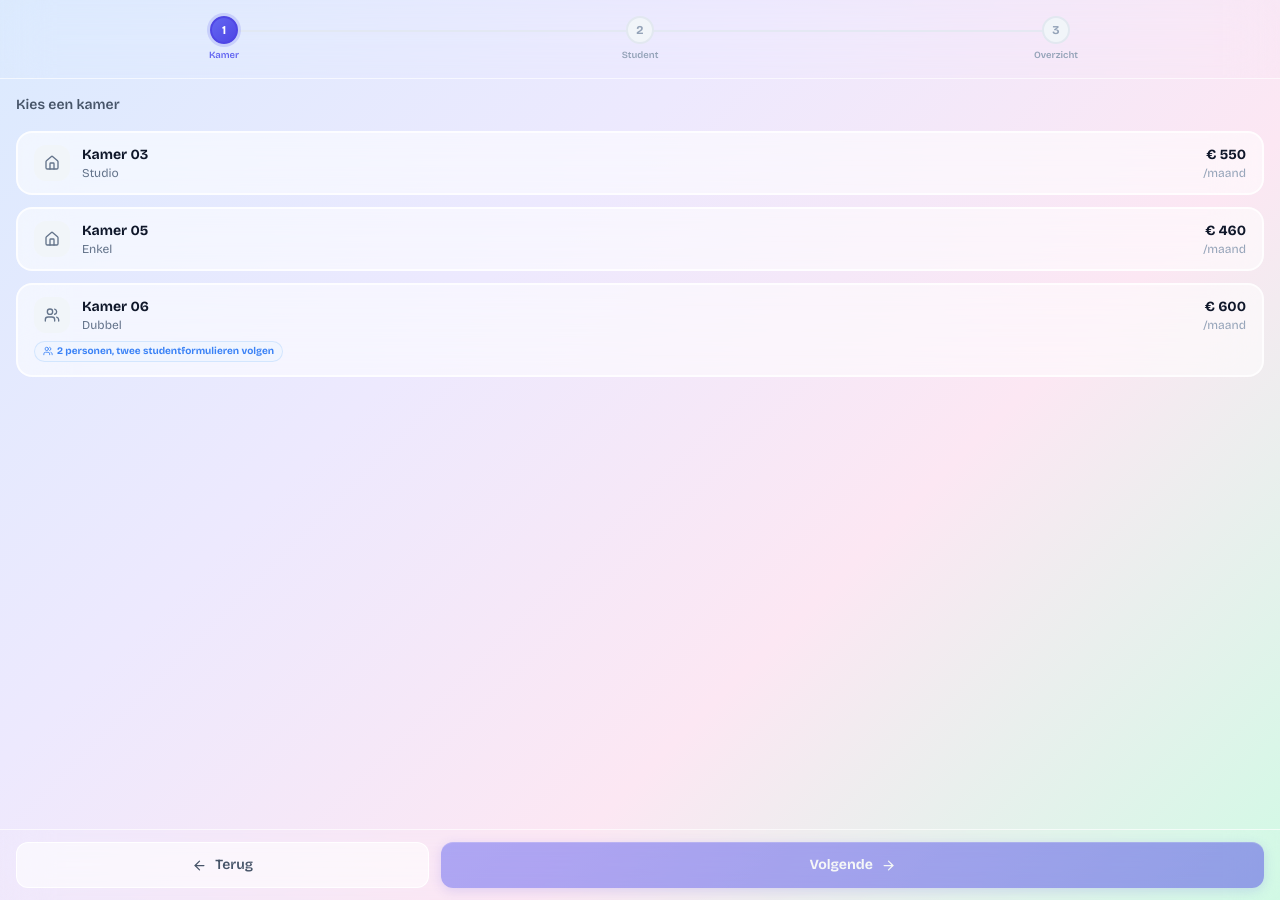
ContractNewPage › gaat naar stap 2 na kamerselectie en klik Volgende
The image size is (1280, 900).
What coordinates should you click on to do the following:
click the button "Kamer 03 Studio € 550 /maand"
I would click on:
 (52, 163)
Its box is x1=16 y1=131 x2=1264 y2=195.
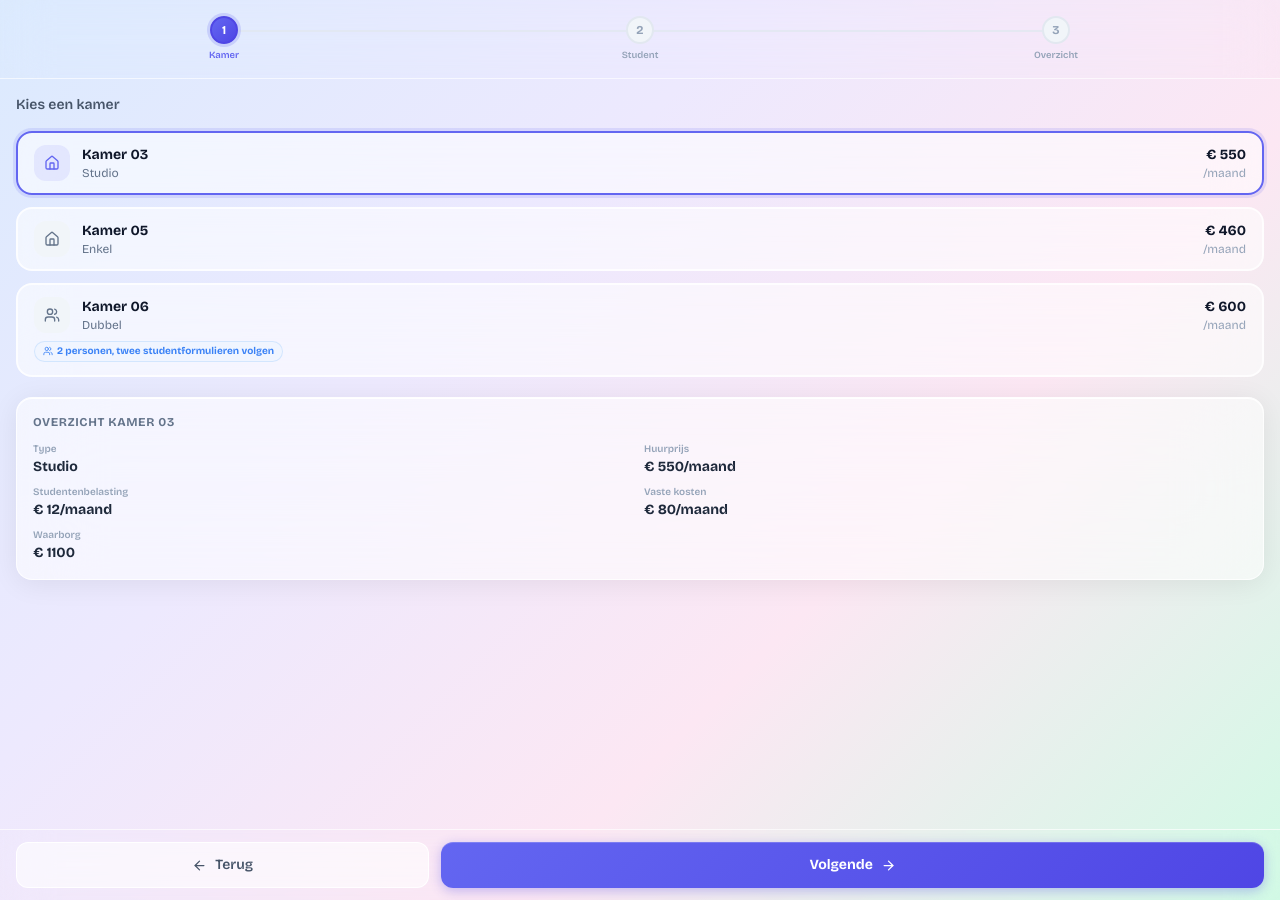
What coordinates should you click on to do the following:
click the button "Volgende"
I would click on:
 (853, 865)
Its box is x1=441 y1=842 x2=1264 y2=888.
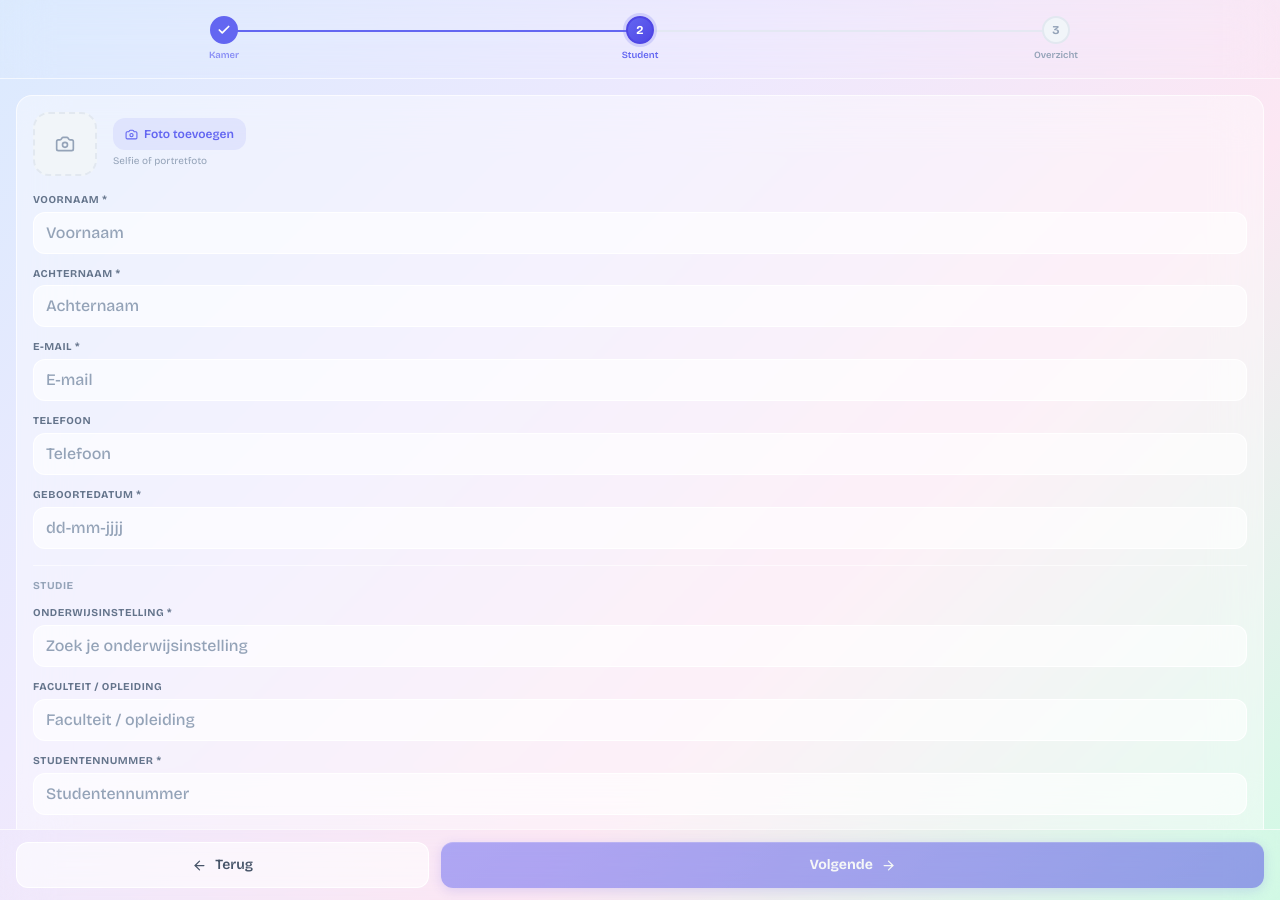
Check: the field labelled "Voornaam *" is shown, box x1=33 y1=212 x2=1247 y2=254
